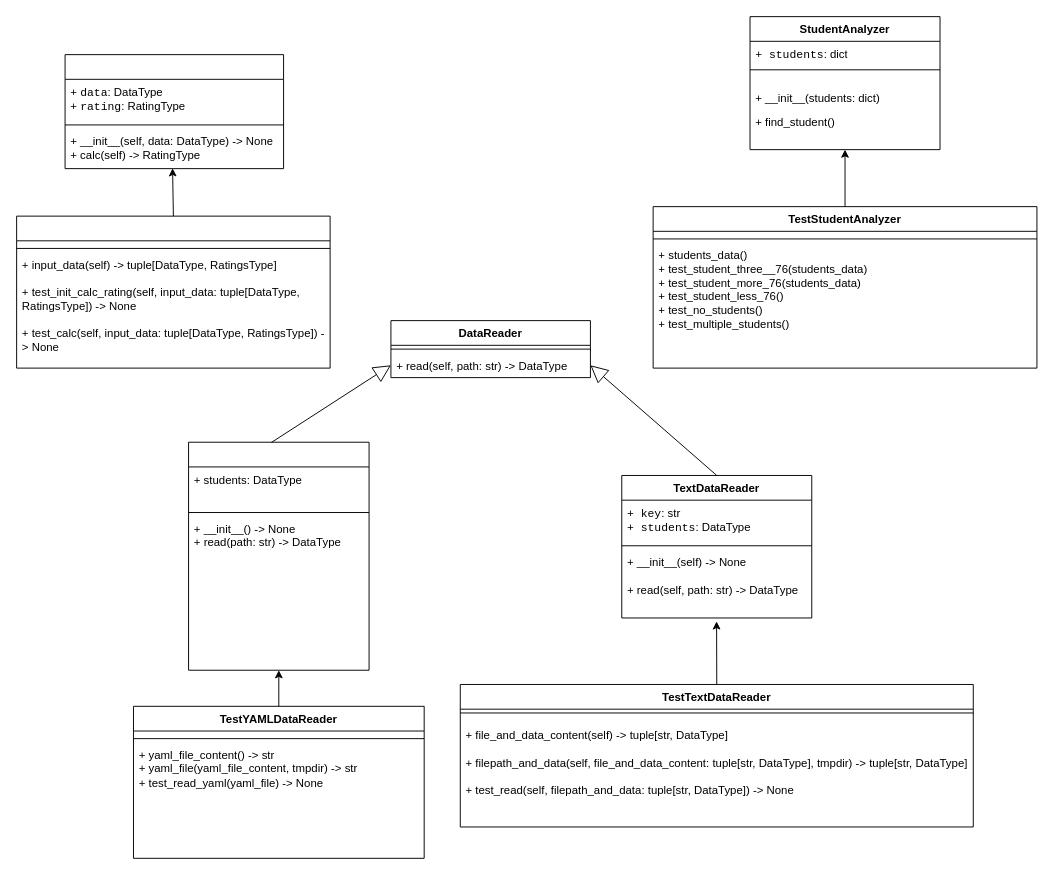
The diagram is 1054 pixels wide and 878 high, and some of its shapes have lost their labels. The box of each missing label's shape, as (x1, y1, x2, y2) in pixels:
CalcRating: (64, 54, 284, 169)
TestCalcRating: (16, 215, 330, 368)
YAMLDataReader: (188, 441, 369, 670)
